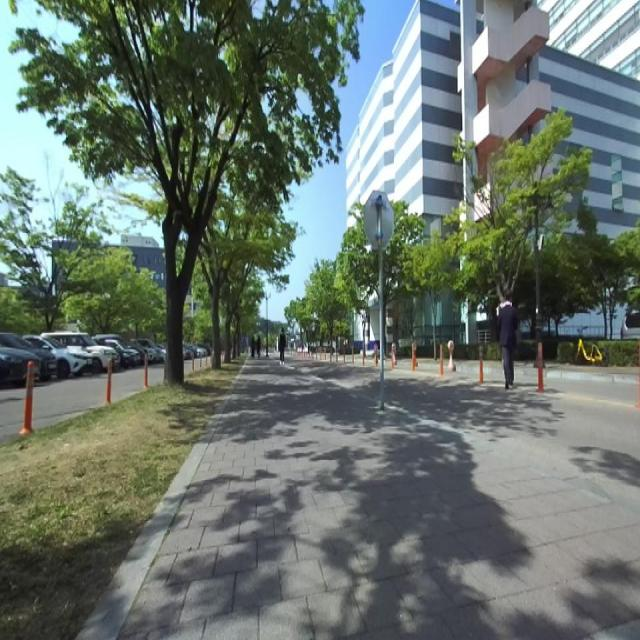sidewalk: (113, 358, 640, 640)
